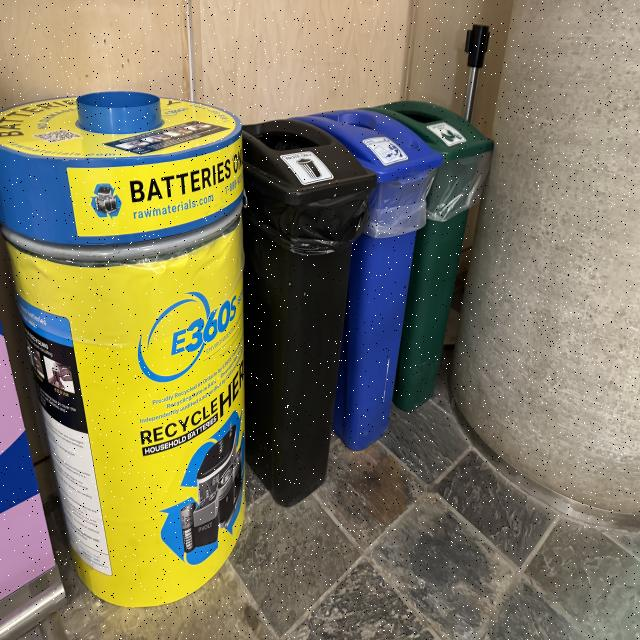Dustbin: (232, 99, 495, 508)
